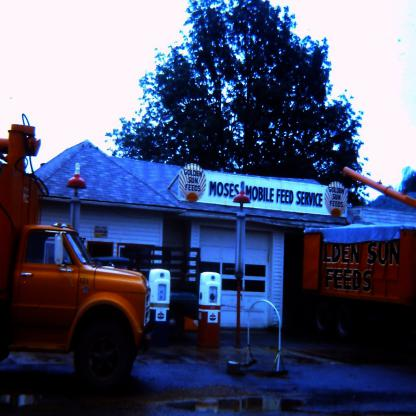Truck: (0, 112, 154, 393), (302, 164, 415, 345)
